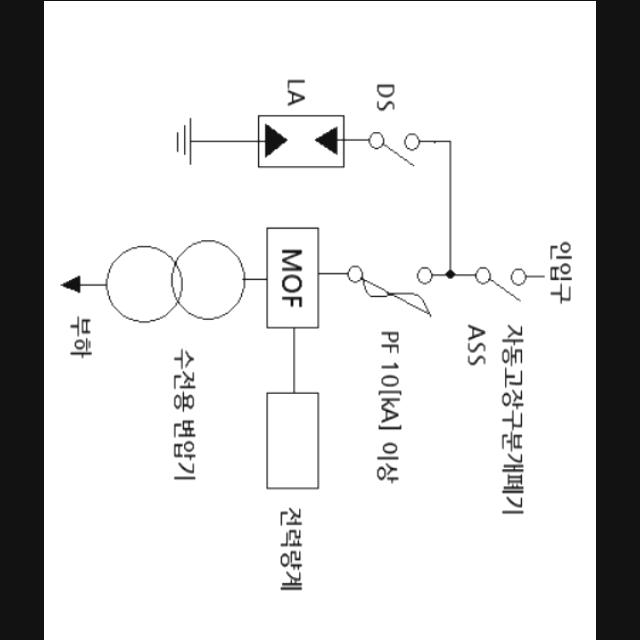GND: (173, 114, 194, 166)
LA: (258, 112, 344, 166)
MOF: (268, 227, 320, 327)
PF: (350, 268, 432, 314)
ds: (369, 132, 419, 166), (478, 268, 526, 300)
